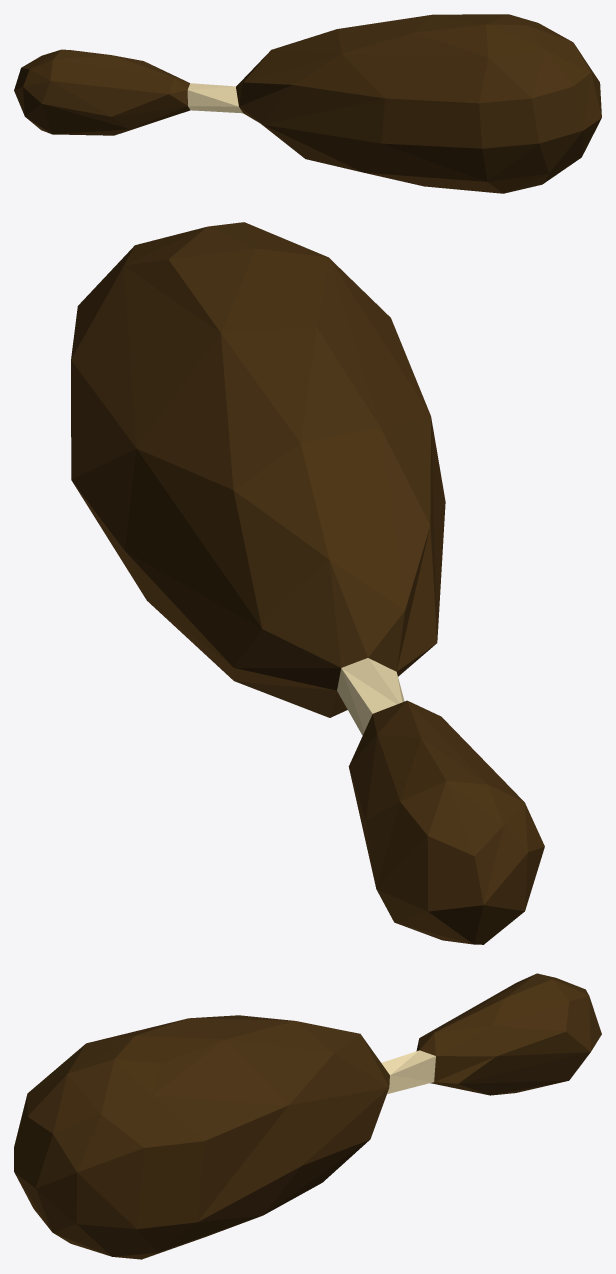
The model's file is MeatBoneRoasted(Pickup).fbx.
3 renders of one model, top to bottom at view 1: azimuth 30°, elevation 25°; view 2: azimuth 150°, elevation 25°; view 3: azimuth 270°, elevation 25°, orthographic. The views are drawn at different scales.
Parts seen in each view (by area): view 1: MeatBone; view 2: MeatBone; view 3: MeatBone.
Part boxes in pixels (bbox=[...]): MeatBone: bbox=[14, 14, 601, 193]; MeatBone: bbox=[71, 222, 544, 944]; MeatBone: bbox=[14, 973, 601, 1259].
Bounding box in the file's own units: 43.78 × 17.49 × 45.04.
